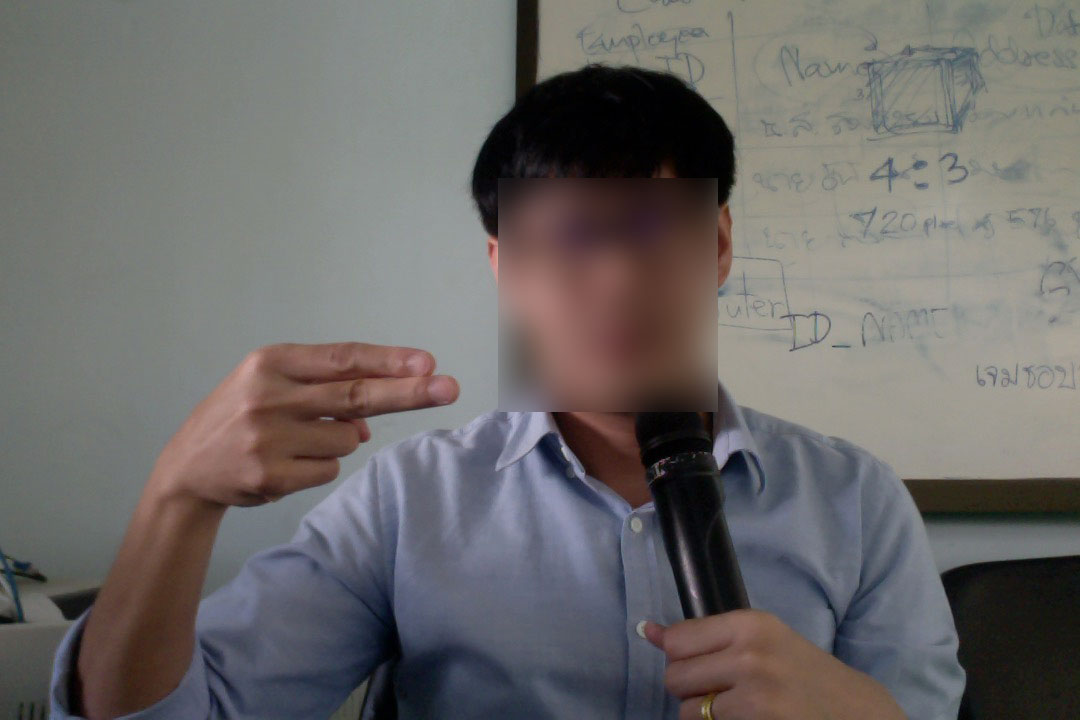hor: (186, 336, 462, 519)
